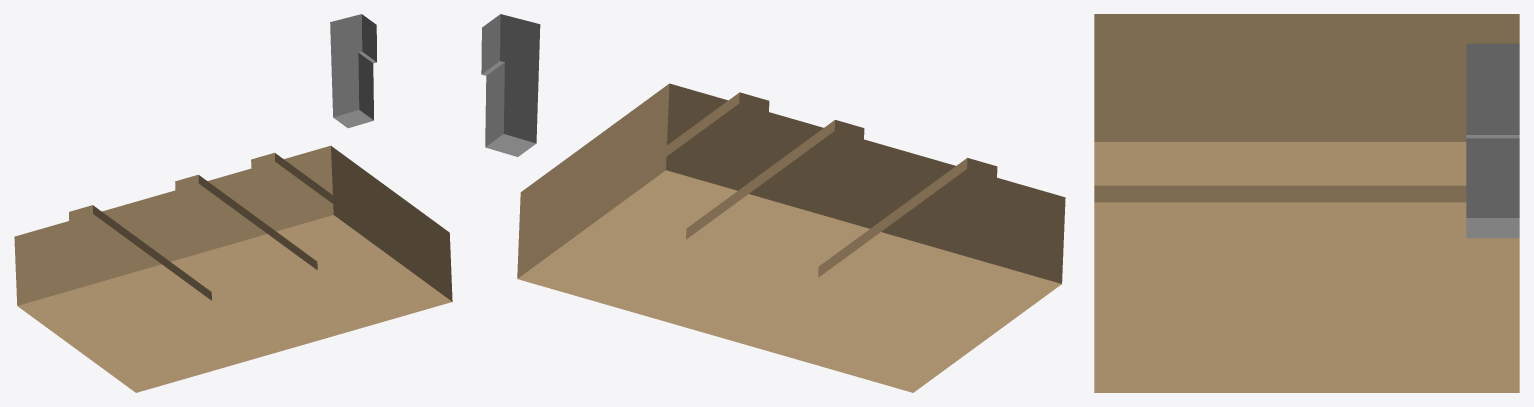
The picture shows the model from 3 angles, left to right: view 1: azimuth 30°, elevation 25°; view 2: azimuth 150°, elevation 25°; view 3: azimuth 270°, elevation 25°; orthographic projection. The views are drawn at different scales.
Visible parts, largest first — view 1: 0_3_0_1_2_2_2_0_1; view 2: 0_3_0_1_2_2_2_0_1; view 3: 0_3_0_1_2_2_2_0_1.
Part boxes in pixels (bbox=[...]): 0_3_0_1_2_2_2_0_1: bbox=[14, 14, 452, 392]; 0_3_0_1_2_2_2_0_1: bbox=[481, 14, 1065, 392]; 0_3_0_1_2_2_2_0_1: bbox=[1094, 14, 1519, 392].
Size of the model in its own units: 40.55 by 23.15 by 24.
